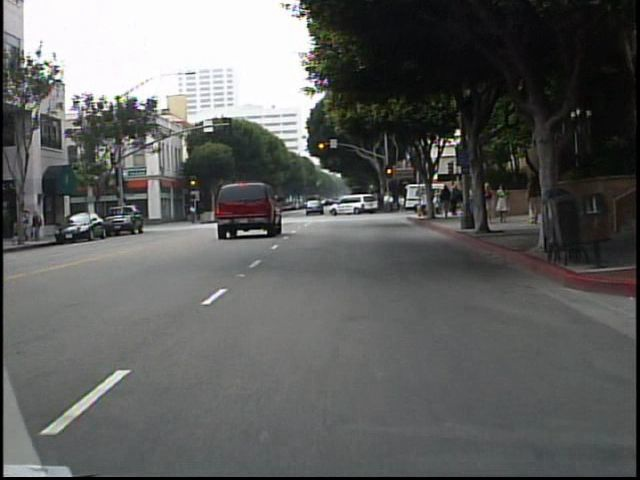person: (521, 169, 546, 230), (493, 183, 508, 225), (479, 182, 494, 221), (416, 188, 430, 220)
